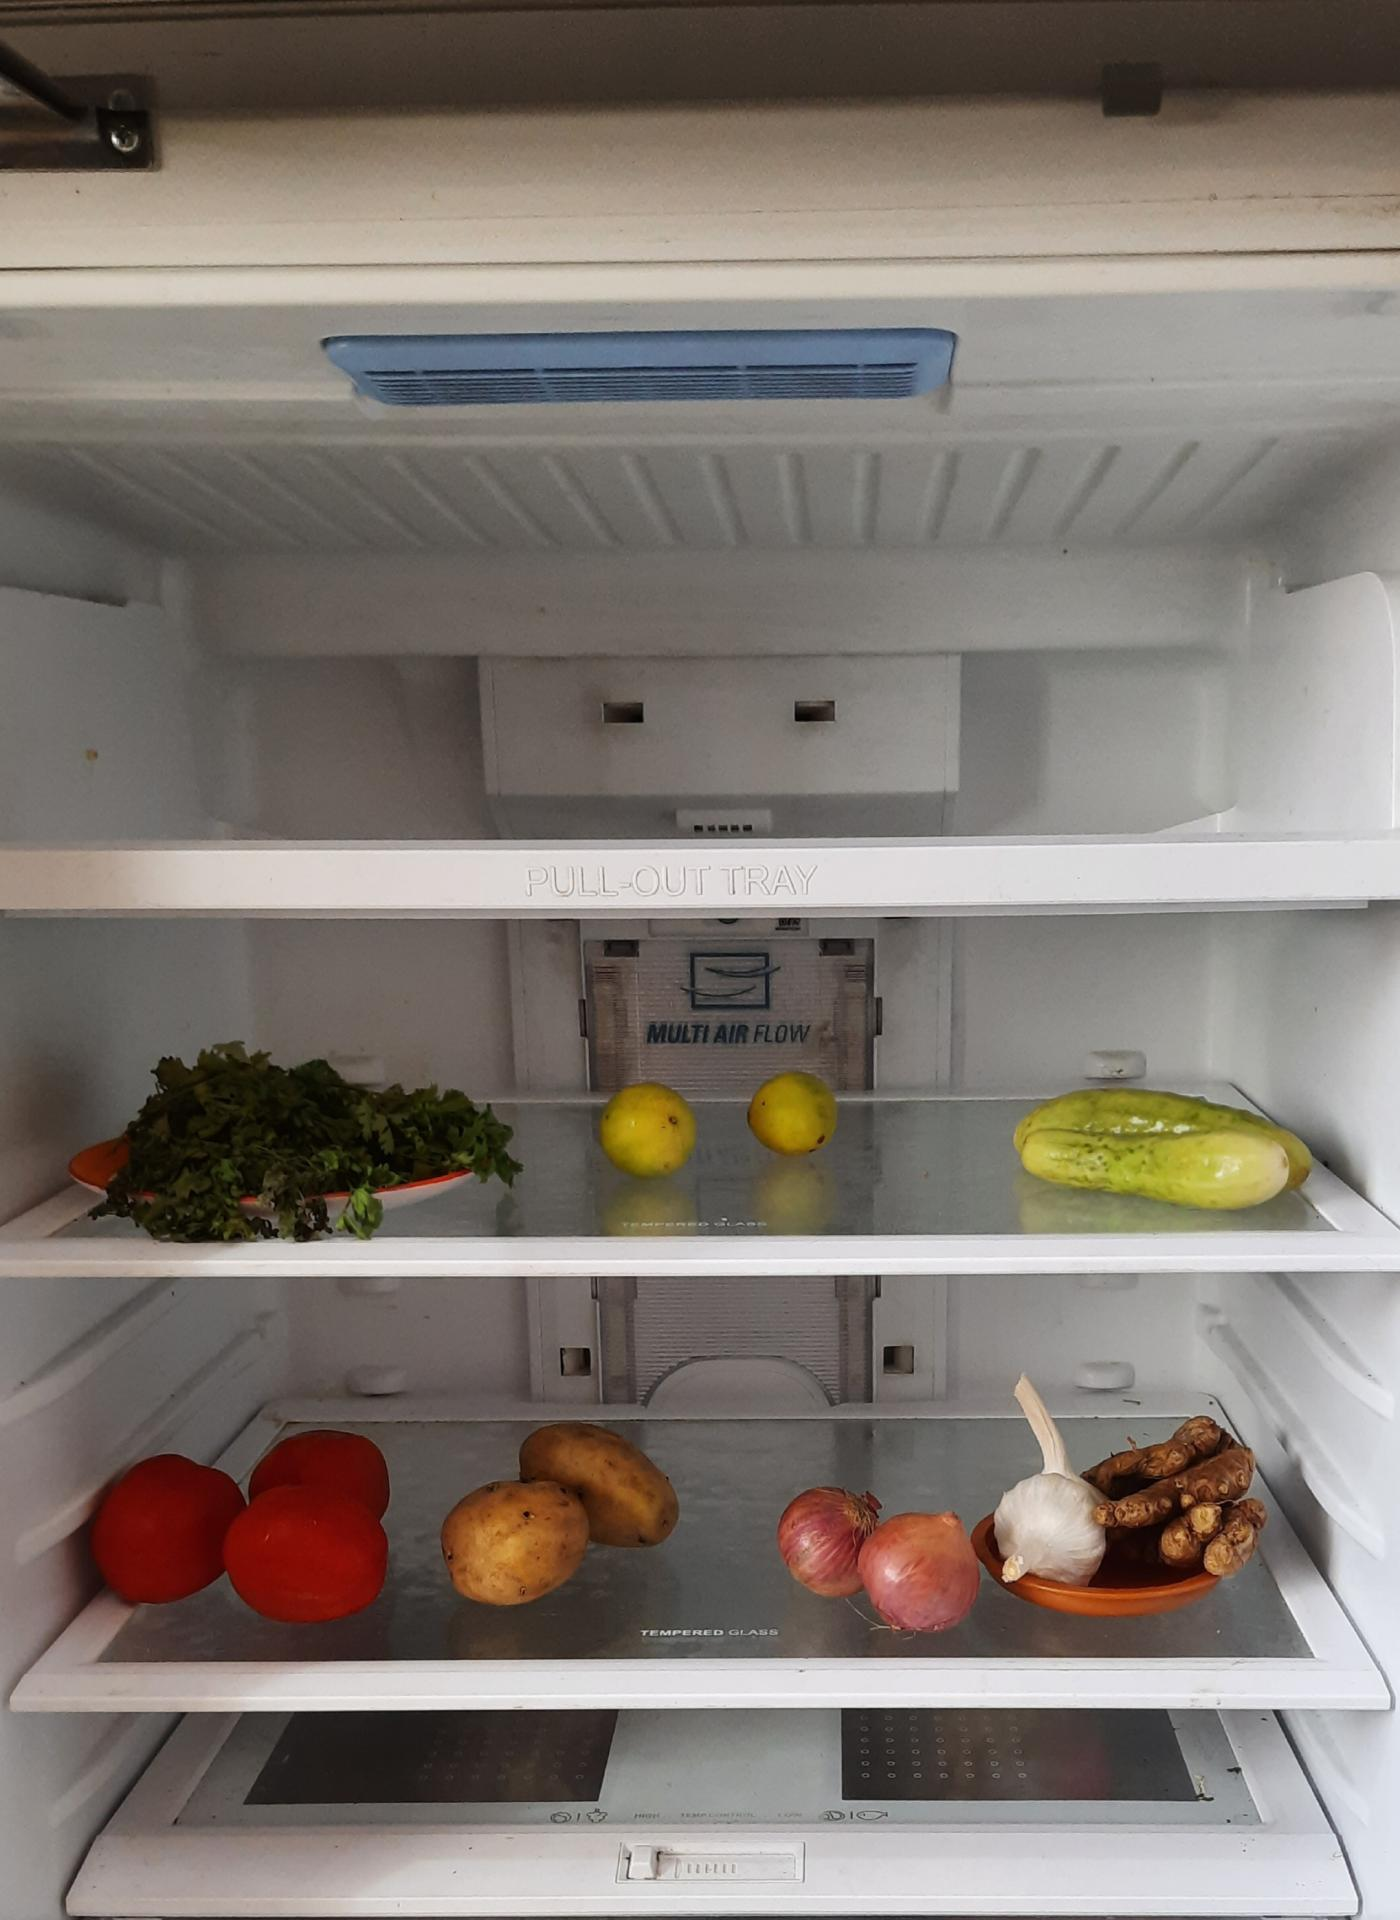capsicum: (435, 1412, 696, 1614)
coriander: (110, 1039, 514, 1230)
cucumber: (1005, 1090, 1321, 1212)
garlic: (996, 1367, 1106, 1577)
ginger: (1093, 1412, 1261, 1570)
lemon: (595, 1082, 696, 1179), (745, 1072, 838, 1158)
onion: (775, 1483, 975, 1632)
tomato: (98, 1431, 398, 1619)
